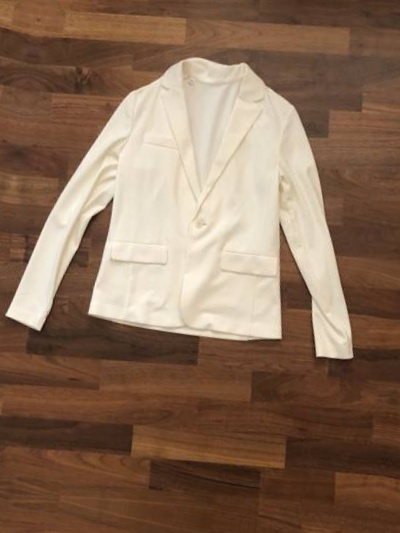Blazer: (3, 17, 400, 408), (0, 0, 23, 350)
